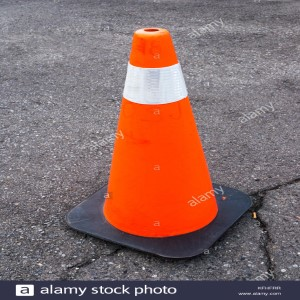traffic cone: (66, 27, 252, 260)
